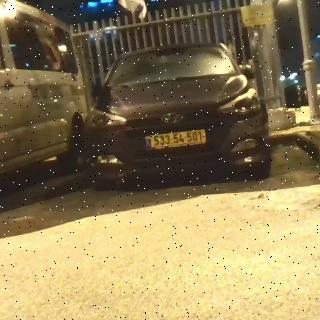LicensePlate: (150, 129, 206, 147)
